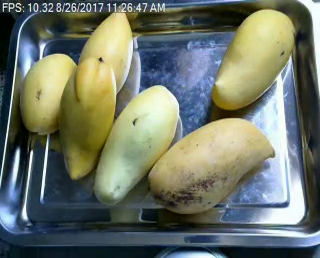Mango: (148, 114, 276, 217), (93, 85, 179, 206), (211, 7, 294, 112), (58, 58, 116, 180), (75, 3, 133, 92), (17, 52, 78, 134)
